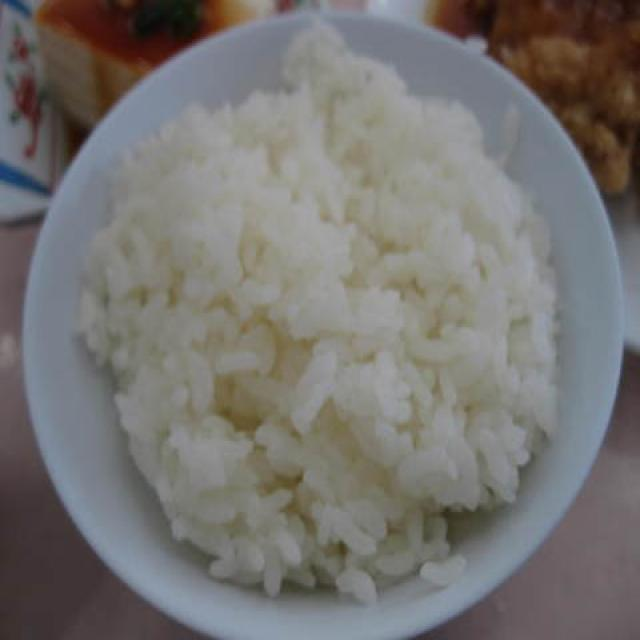Rice: (98, 32, 557, 580)
